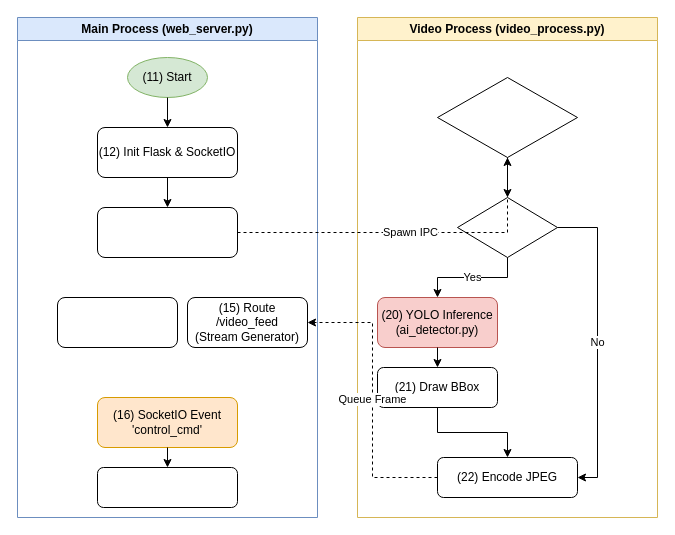
The diagram is 675 pixels wide and 535 high, and some of its shapes have lost their labels. Each missing label, with the centre of its shape:
(13) Spawn VideoProcess (Multiprocessing): (167,232)
(14) Route / (Serve index.html): (117,322)
(17) Send HTTP GET to ESP12F: (167,487)
(18) Loop: Read Frame (from ESP32): (507,117)
(19) AI Enabled?: (507,227)
